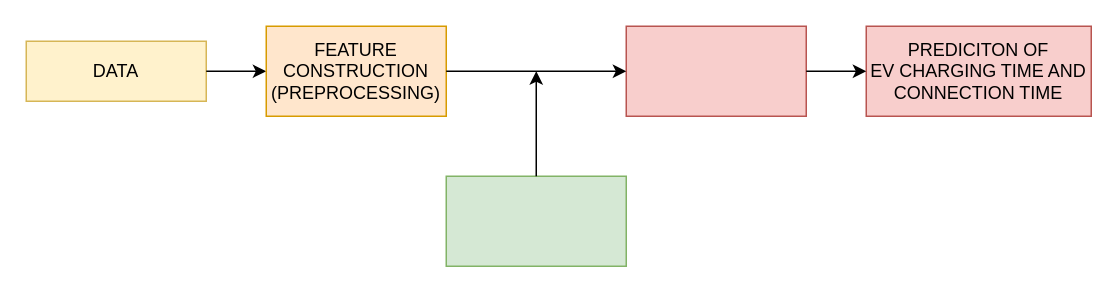
Image size: 1118x293. Some labels were removed from this diagram. Here are the shapes that lost their labels. From the top down, the centre of each, then its label:
the point at 715,70: DEEP LEARNING ON FEATURES
the point at 535,220: TIME SERIES CLASSIFICATION (EXTRA FEATURE)
